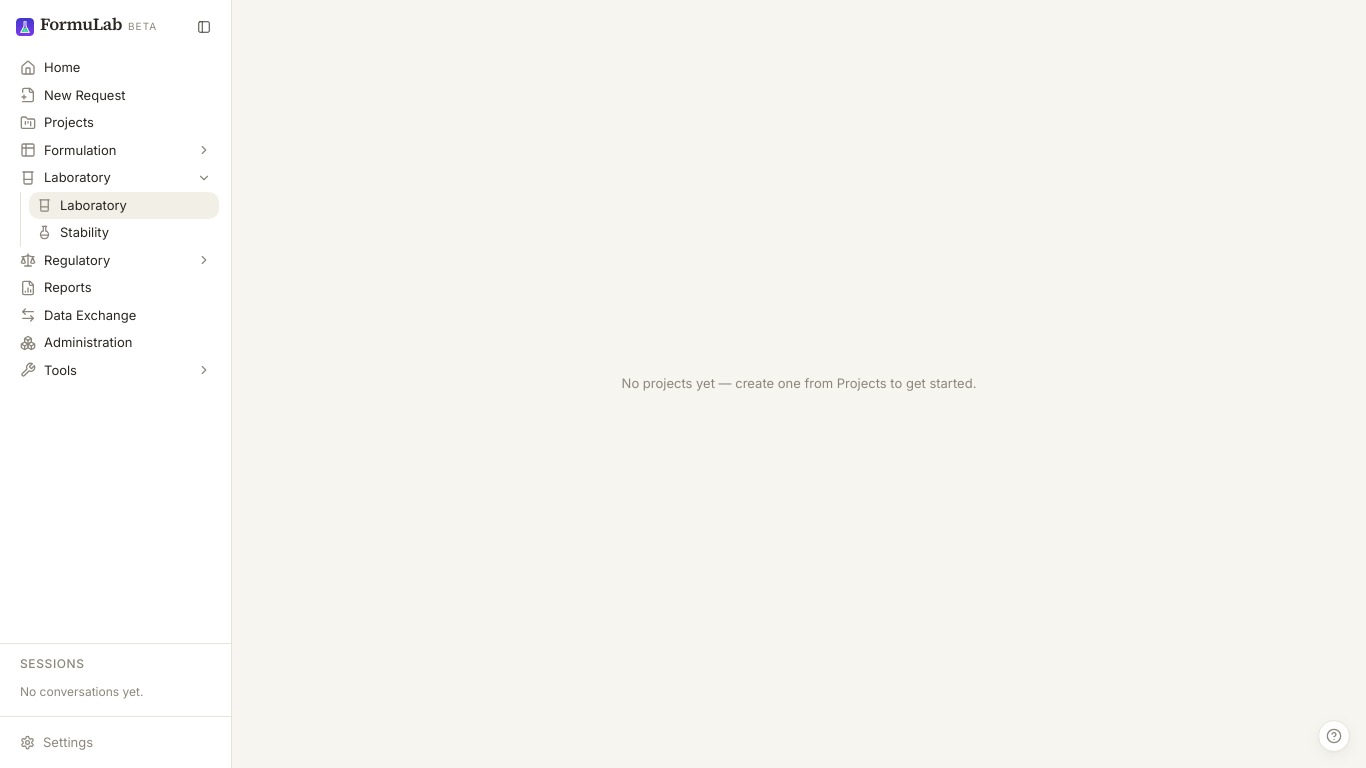
HelpPanel — opening and content › shows the Laboratory topic's Test Standards and Methods section (Session 1A integration)
Click the button named "Help". click: coordinates (1334, 736)
box: [1318,720,1350,752]
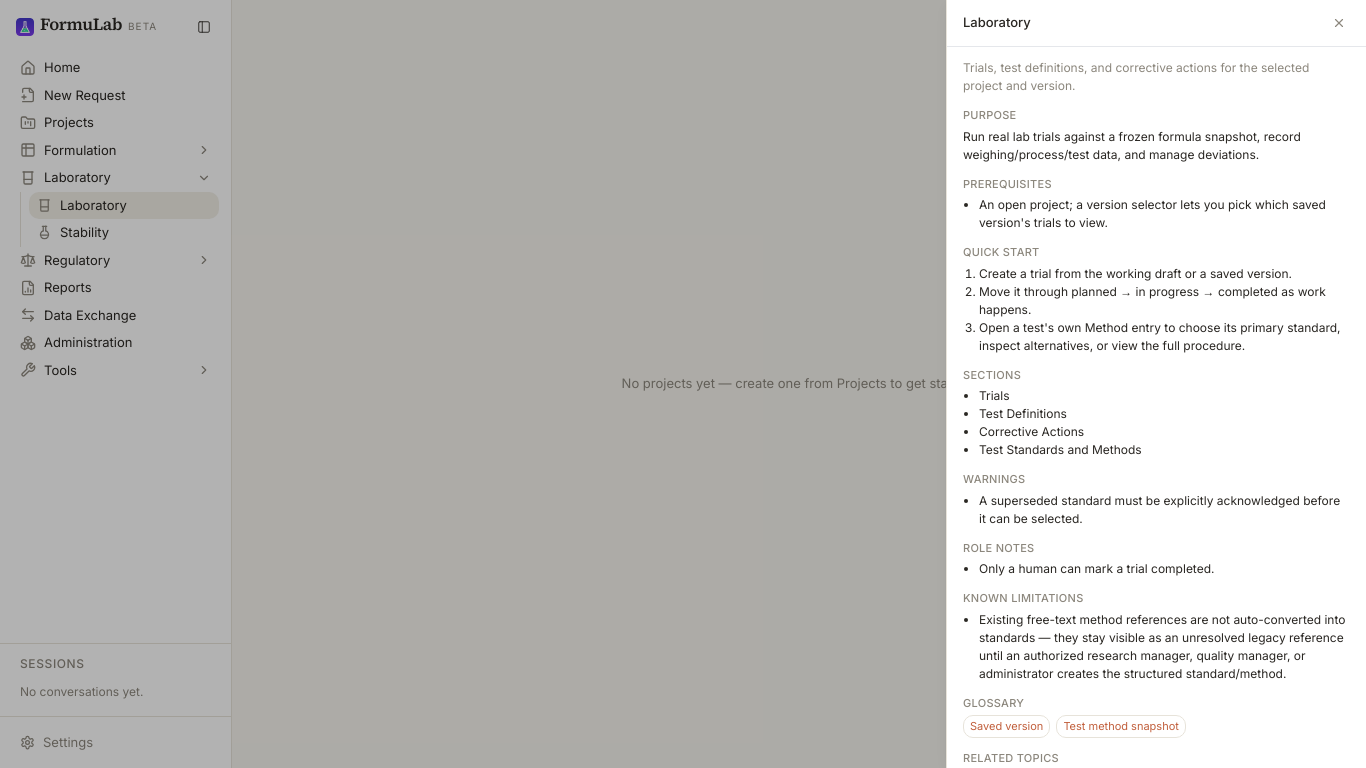
Now the dialog is shown, box [946,0,1365,767]
Now the list item "Test Standards and Methods" is shown, box [979,442,1142,457]
